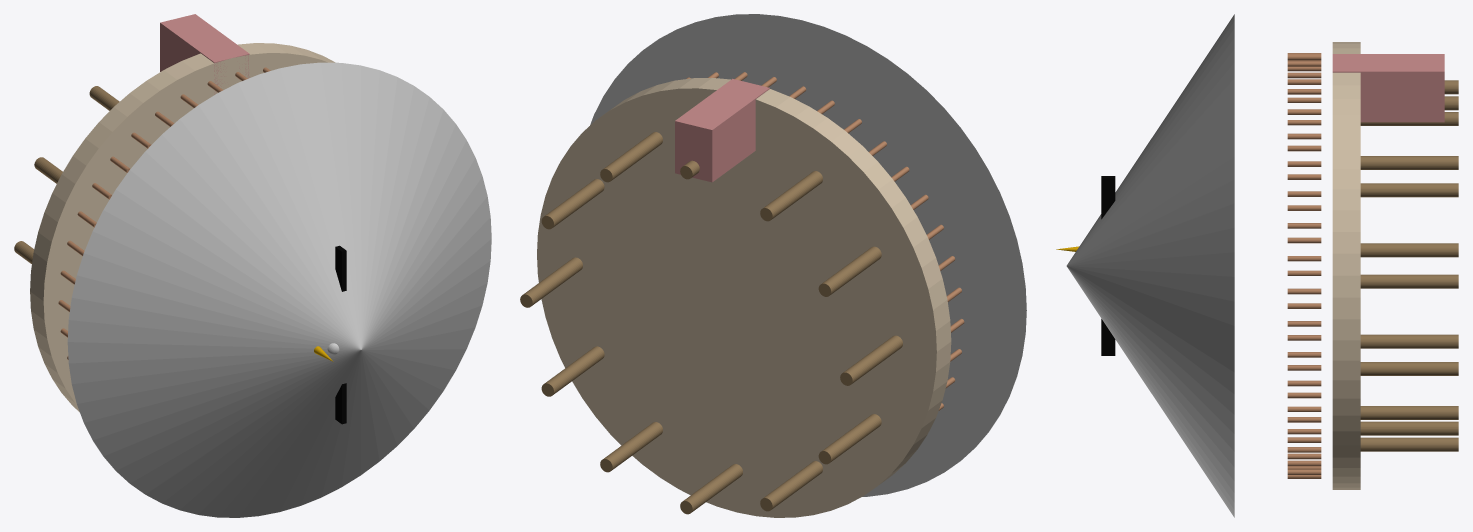
Rendered from rumah_jagoi.glb.
The picture shows the model from 3 angles, left to right: view 1: azimuth 30°, elevation 25°; view 2: azimuth 150°, elevation 25°; view 3: azimuth 270°, elevation 25°; orthographic projection. The views are drawn at different scales.
Visible parts, largest first — view 1: world; view 2: world; view 3: world.
Boxes of the visible parts, x1,y1,x2,y2 form: world: (14,14,491,517); world: (520,14,1026,517); world: (1056,14,1458,517).
Size of the model in its own units: 18 by 18 by 14.4.
